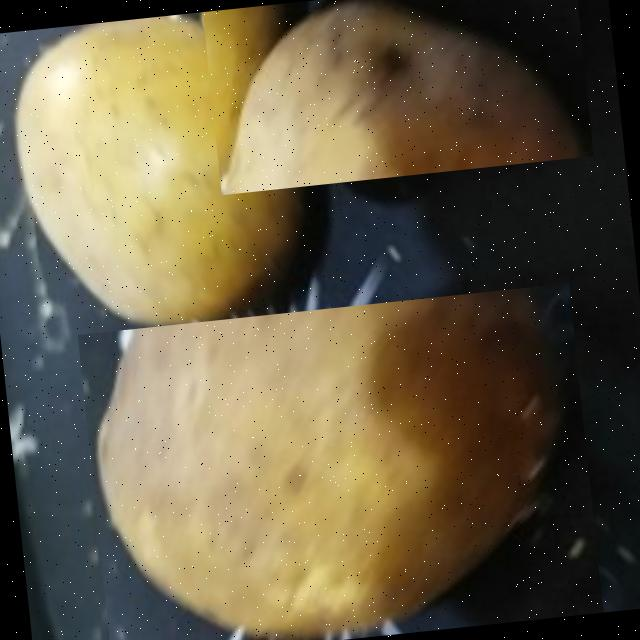Damaged potato: (77, 281, 603, 640), (202, 0, 593, 193)
Potato: (2, 5, 318, 348)
